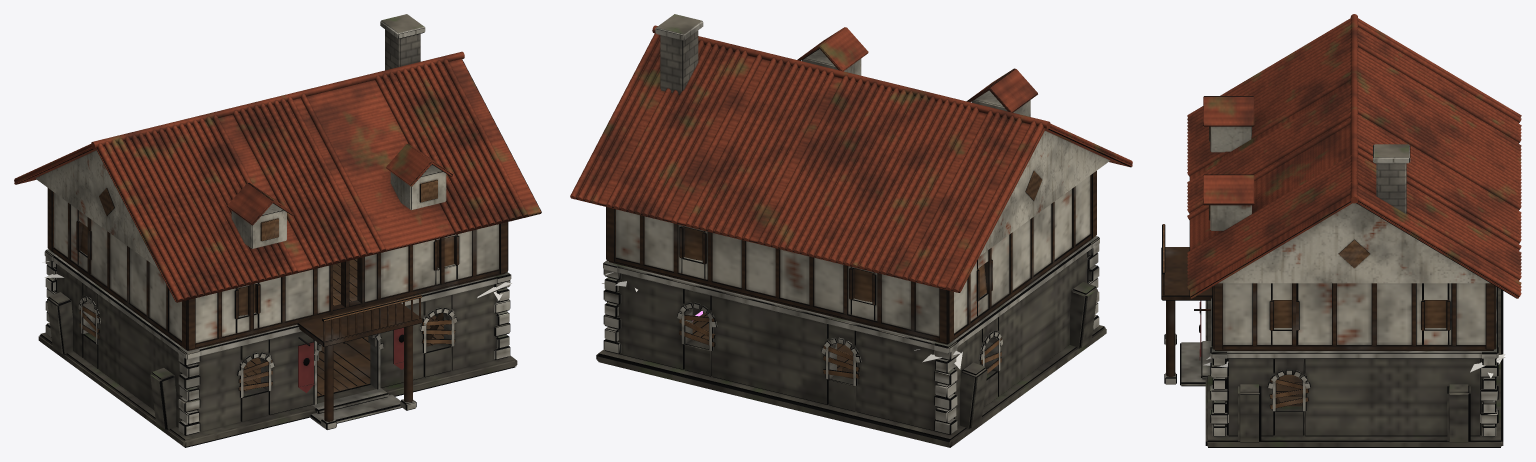
File: ruina_casarao_abandonado.glb
3 views of the same model, side by side, from view 1: azimuth 30°, elevation 25°; view 2: azimuth 150°, elevation 25°; view 3: azimuth 270°, elevation 25° (orthographic). The views are drawn at different scales.
Visible parts, largest first — view 1: ruina_casarao_abandonado_telhado, ruina_casarao_abandonado, ruina_casarao_abandonado_andar2; view 2: ruina_casarao_abandonado_telhado, ruina_casarao_abandonado, ruina_casarao_abandonado_andar2; view 3: ruina_casarao_abandonado_telhado, ruina_casarao_abandonado, ruina_casarao_abandonado_andar2.
Boxes of the visible parts, x1,y1,x2,y2 form: ruina_casarao_abandonado_telhado: (14,14,541,302); ruina_casarao_abandonado: (38,249,517,447); ruina_casarao_abandonado_andar2: (47,188,508,350); ruina_casarao_abandonado_telhado: (570,14,1132,292); ruina_casarao_abandonado: (596,236,1106,447); ruina_casarao_abandonado_andar2: (606,171,1096,344); ruina_casarao_abandonado_telhado: (1187,14,1521,298); ruina_casarao_abandonado: (1161,247,1505,447); ruina_casarao_abandonado_andar2: (1162,224,1496,350).
Size of the model in its own units: 18.6 by 14.53 by 15.49.
Materials: 5 (3 with a texture image).
